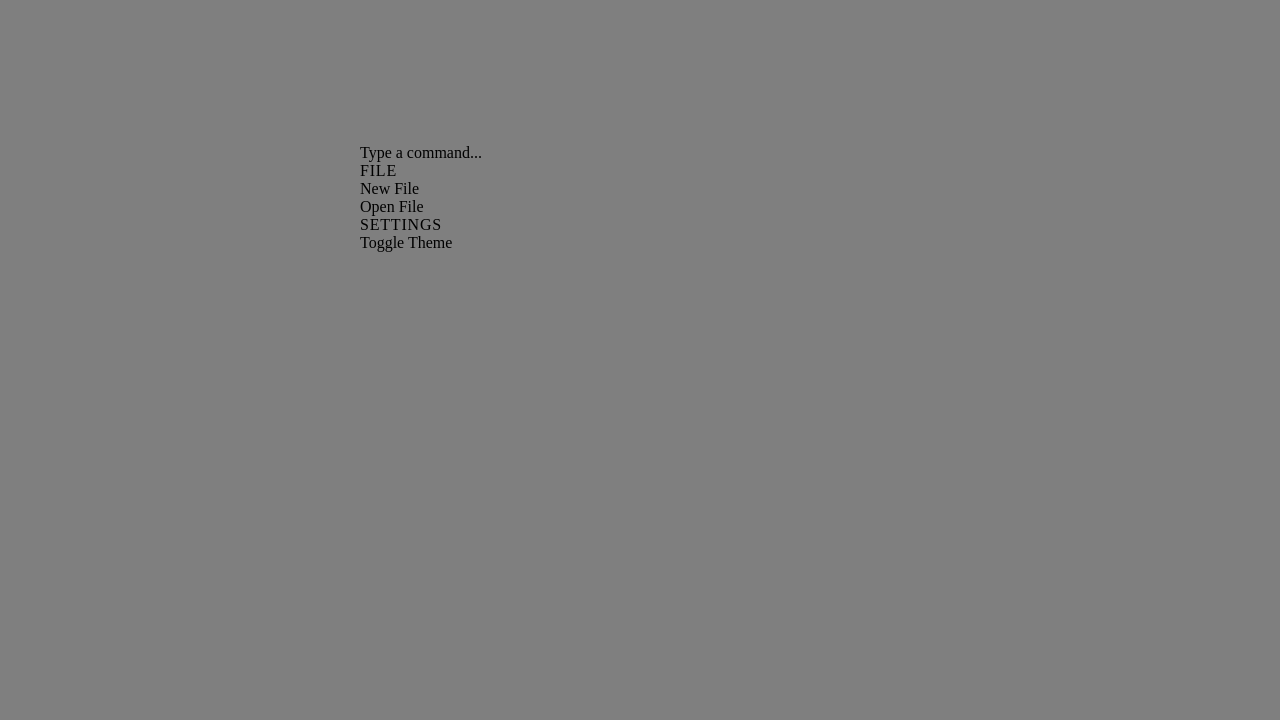
Test: CommandPalette › shows no results message
Type "xyz" into the dropdown with placeholder "Type a command...". click: (640,153)
box: x1=360 y1=144 x2=920 y2=162
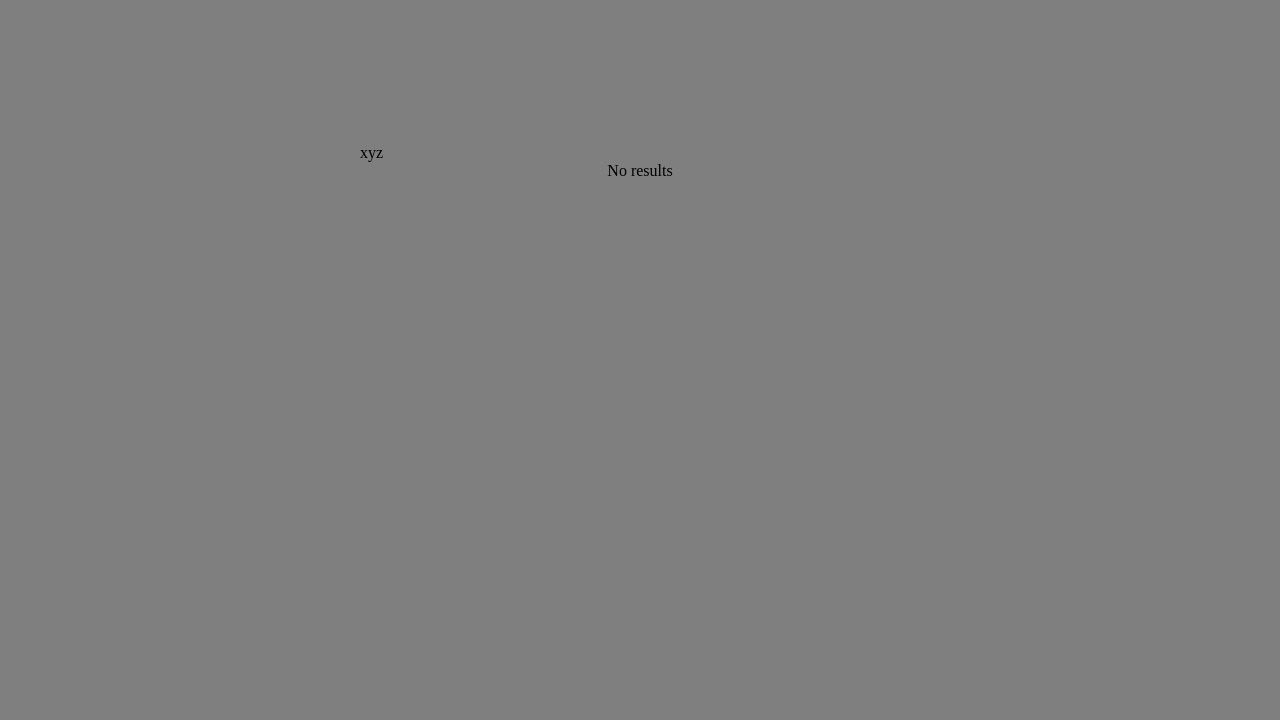
Result: the text "No results" is shown at x1=607 y1=162 x2=673 y2=179
